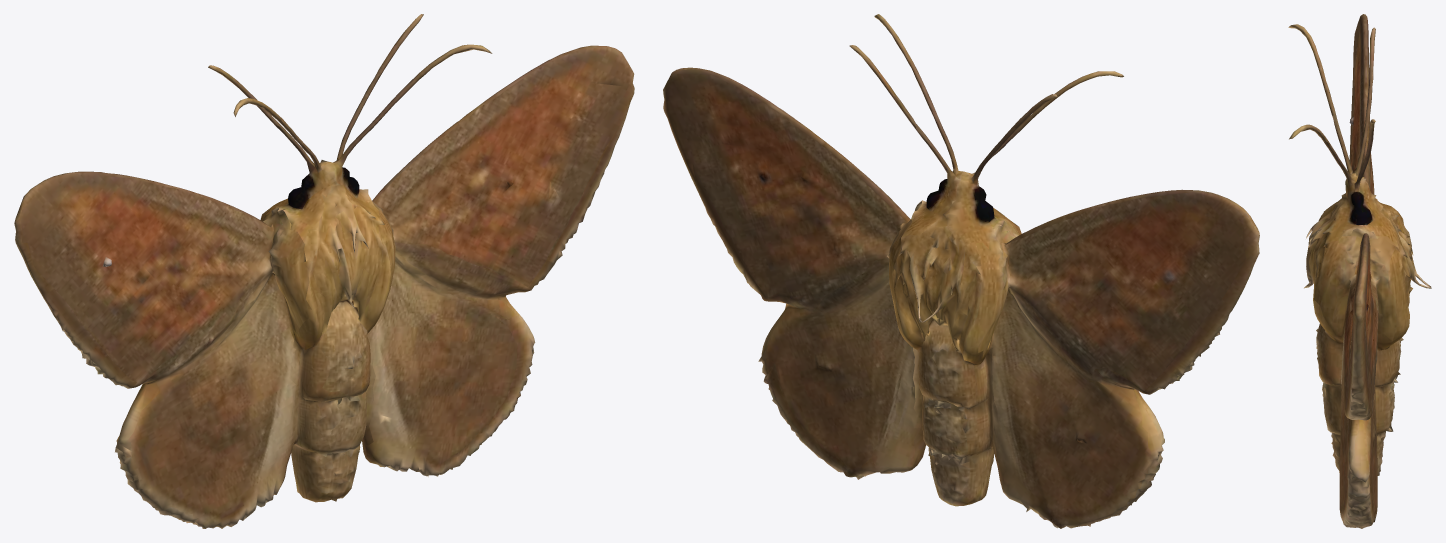
File: moth.glb
3 renders of one model, left to right at view 1: azimuth 30°, elevation 25°; view 2: azimuth 150°, elevation 25°; view 3: azimuth 270°, elevation 25°, orthographic. The views are drawn at different scales.
Parts seen in each view (by area): view 1: wing_l, wing_r, body; view 2: wing_l, wing_r, body; view 3: wing_r, body, wing_l.
Part boxes in pixels (bbox=[...]): wing_l: bbox=[14, 106, 311, 528]; wing_r: bbox=[359, 45, 634, 476]; body: bbox=[208, 14, 492, 502]; wing_l: bbox=[973, 109, 1259, 528]; wing_r: bbox=[663, 67, 937, 479]; body: bbox=[849, 14, 1123, 506]; wing_r: bbox=[1314, 141, 1406, 528]; body: bbox=[1288, 24, 1431, 475]; wing_l: bbox=[1325, 14, 1374, 194].
Size of the model in its own units: 0.1997 by 0.1406 by 0.045.
Materials: 1 (1 with a texture image).
